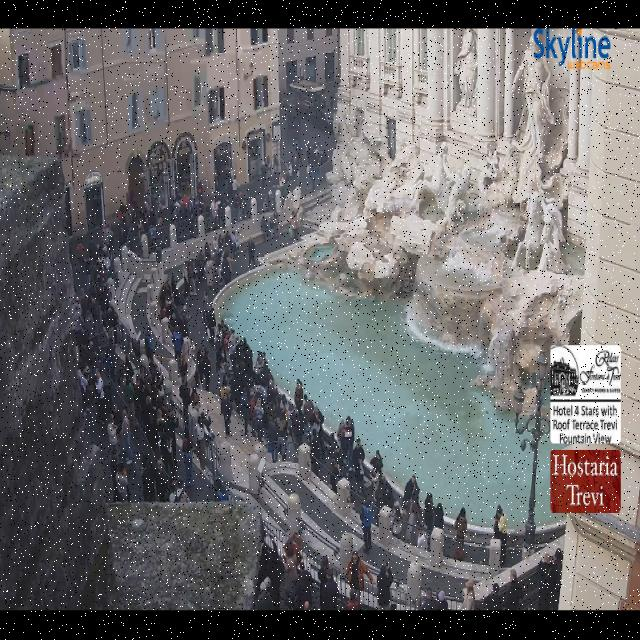person: (246, 352, 302, 444), (238, 339, 284, 431), (79, 273, 118, 380), (146, 377, 178, 478), (140, 375, 176, 456), (147, 377, 175, 473), (134, 368, 166, 447), (76, 260, 110, 334), (80, 263, 110, 337), (229, 339, 257, 417), (179, 348, 210, 418), (223, 326, 247, 412), (89, 241, 113, 312), (96, 285, 119, 358), (265, 375, 291, 435), (216, 328, 239, 395), (379, 476, 403, 536), (124, 374, 151, 427), (218, 174, 244, 228), (161, 290, 190, 337), (260, 377, 290, 422), (88, 240, 111, 296), (215, 321, 231, 398), (253, 352, 277, 403), (346, 551, 374, 594), (133, 375, 156, 427), (162, 407, 180, 471), (112, 356, 134, 408), (268, 541, 284, 610), (133, 374, 151, 434), (263, 373, 287, 417), (373, 476, 394, 524), (337, 417, 355, 473), (538, 554, 555, 610), (79, 341, 97, 393), (80, 341, 97, 394), (196, 414, 211, 470), (212, 196, 236, 230), (167, 303, 190, 338), (320, 568, 339, 610), (142, 395, 157, 448), (336, 421, 350, 477), (376, 476, 399, 510), (160, 282, 176, 330), (230, 356, 243, 415), (494, 505, 507, 563), (377, 563, 393, 610), (505, 569, 523, 610), (282, 405, 295, 461), (296, 563, 312, 608), (341, 418, 354, 473), (160, 431, 175, 478), (284, 547, 297, 601), (376, 475, 394, 513), (266, 410, 279, 462), (112, 404, 125, 456), (552, 549, 563, 610), (402, 475, 420, 512), (182, 428, 193, 487), (353, 439, 365, 493), (121, 408, 132, 466), (284, 532, 302, 567), (405, 500, 419, 545), (258, 534, 270, 583), (142, 456, 155, 501), (188, 251, 201, 296), (157, 280, 173, 316), (361, 501, 372, 553), (308, 143, 327, 173), (203, 291, 214, 342), (256, 577, 273, 610), (96, 369, 106, 424), (156, 459, 169, 501), (105, 306, 119, 345), (116, 463, 130, 502), (454, 507, 467, 549), (278, 154, 295, 186), (112, 404, 123, 452), (221, 393, 233, 437), (252, 396, 263, 442), (73, 298, 83, 347), (110, 449, 119, 502), (311, 428, 321, 475), (108, 414, 120, 453), (228, 330, 239, 372), (88, 297, 102, 330), (169, 479, 189, 502), (200, 350, 211, 391), (291, 409, 303, 446), (240, 388, 249, 437), (424, 493, 434, 537), (79, 370, 89, 413), (196, 347, 207, 386), (102, 346, 115, 378), (420, 587, 438, 610), (103, 225, 115, 259), (189, 381, 200, 418), (210, 198, 224, 227), (214, 164, 228, 193), (177, 306, 190, 337), (280, 156, 293, 187), (254, 352, 266, 385), (462, 580, 475, 610), (486, 584, 501, 610), (403, 476, 415, 508), (172, 329, 183, 363), (124, 374, 135, 408), (318, 556, 328, 593), (195, 347, 204, 387), (313, 406, 323, 442), (249, 378, 255, 437), (283, 154, 295, 183), (208, 303, 216, 346), (392, 503, 402, 537), (236, 191, 248, 219), (303, 395, 314, 425), (121, 355, 134, 380), (205, 258, 215, 290), (330, 458, 339, 493), (346, 589, 361, 610), (370, 450, 383, 474), (121, 224, 135, 246), (104, 225, 115, 253), (294, 379, 303, 413), (119, 201, 131, 226), (329, 434, 340, 461), (224, 167, 233, 200), (171, 276, 181, 305), (315, 144, 327, 168), (221, 257, 231, 285), (164, 478, 176, 501), (216, 478, 228, 501), (145, 328, 153, 362), (371, 467, 379, 500), (85, 311, 95, 337), (183, 262, 190, 299), (221, 231, 232, 254), (216, 200, 225, 228), (305, 143, 315, 168), (434, 503, 443, 530), (76, 242, 84, 272), (291, 211, 299, 241), (494, 505, 501, 539), (261, 215, 270, 241), (248, 237, 255, 270), (89, 242, 99, 265), (417, 531, 429, 550), (452, 545, 466, 561), (231, 229, 239, 256), (148, 207, 157, 231), (173, 196, 180, 226), (124, 206, 134, 227), (412, 476, 419, 505), (295, 139, 302, 168), (290, 153, 297, 181), (211, 198, 218, 226), (272, 210, 279, 237), (101, 250, 110, 271), (269, 213, 276, 239), (438, 590, 447, 610), (305, 143, 313, 165), (272, 153, 279, 175), (314, 144, 321, 165), (261, 163, 267, 187), (119, 201, 126, 221), (232, 174, 239, 193), (204, 242, 211, 261), (320, 149, 328, 165), (143, 198, 149, 219), (216, 235, 223, 253), (137, 219, 144, 236), (288, 160, 293, 181), (311, 166, 315, 192), (420, 597, 427, 610), (303, 600, 311, 610), (279, 174, 285, 187), (158, 218, 163, 232), (304, 600, 311, 610), (330, 95, 334, 111)
